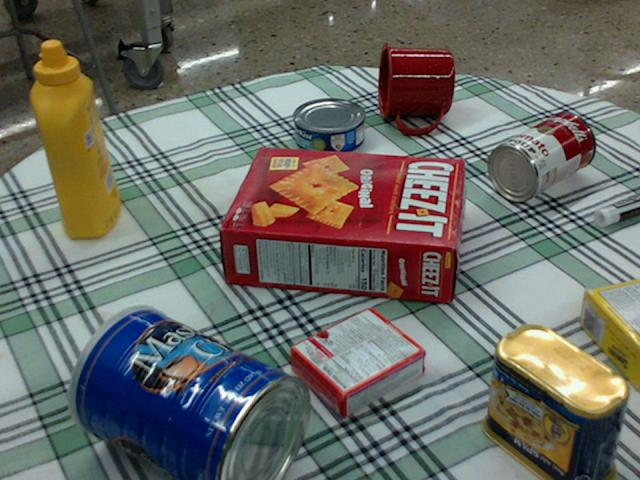cracker_box: (219, 144, 464, 304)
gelatin_box: (289, 307, 427, 414)
large_marker: (594, 196, 639, 224)
master_chef_can: (66, 307, 309, 479)
mug: (376, 42, 455, 133)
mustard_bottle: (30, 40, 120, 238)
potted_meat_can: (482, 321, 628, 479)
sugar_box: (581, 280, 639, 394)
tomato_soup_can: (487, 111, 594, 200)
tuna_fish_can: (292, 98, 364, 154)
